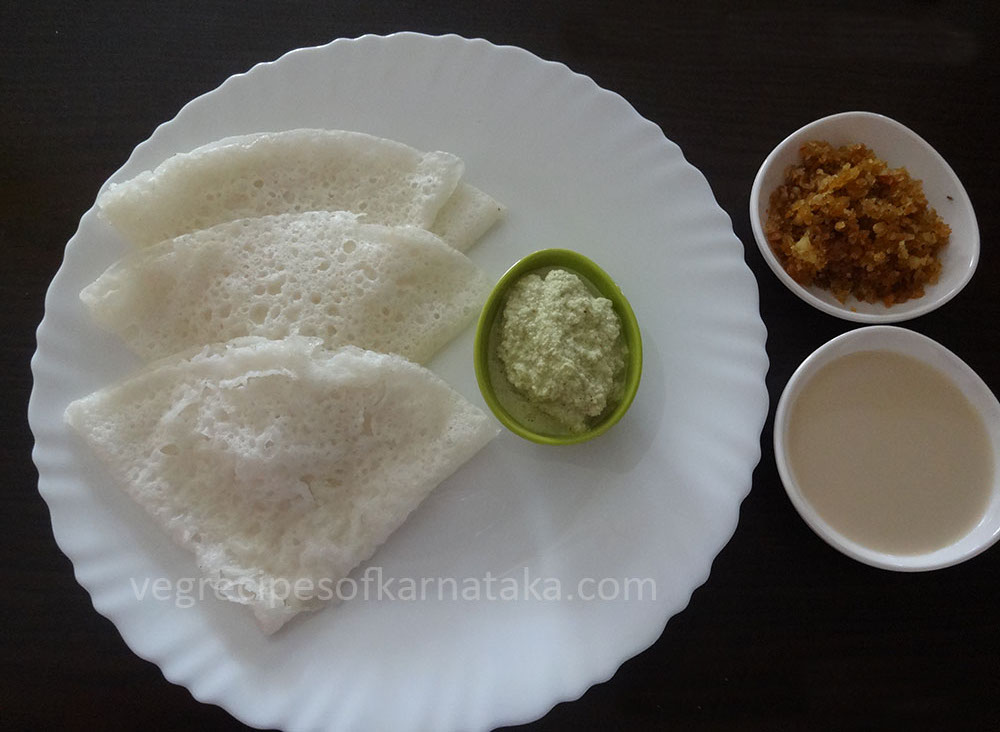dosa: (51, 132, 507, 685)
